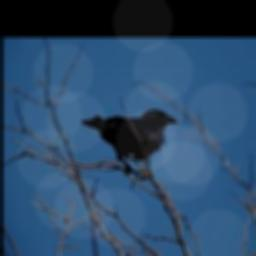Crow: (82, 108, 180, 174)
